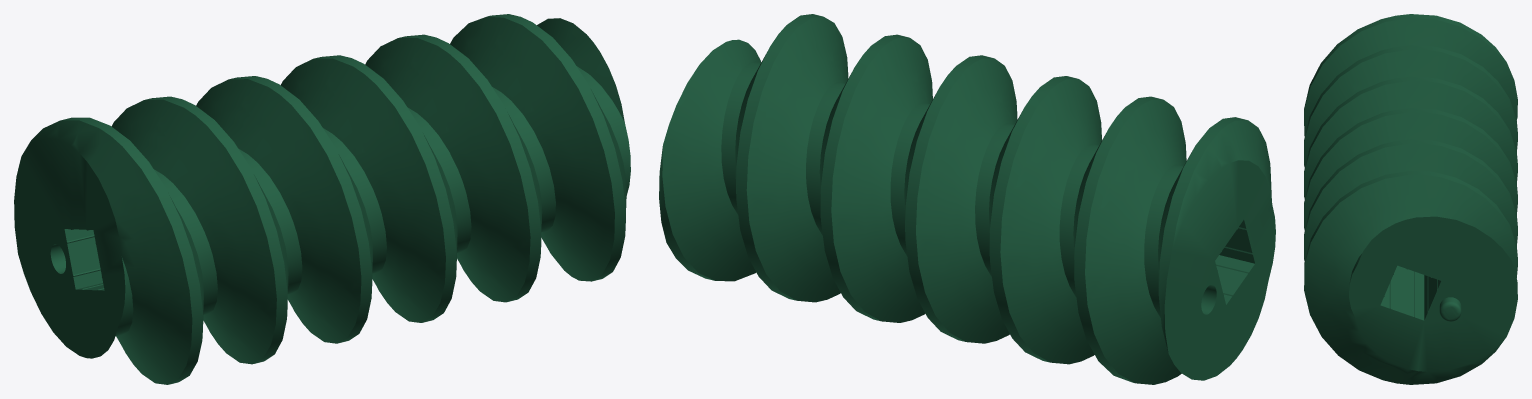
The model's file is lead-screw.glb.
3 views of the same model, side by side, from view 1: azimuth 30°, elevation 25°; view 2: azimuth 150°, elevation 25°; view 3: azimuth 270°, elevation 25° (orthographic). The views are drawn at different scales.
Visible parts, largest first — view 1: 276-2045-032 Rev2; view 2: 276-2045-032 Rev2; view 3: 276-2045-032 Rev2.
Part boxes in pixels (x1,y1,x2,y2): 276-2045-032 Rev2: (14, 14, 630, 384); 276-2045-032 Rev2: (659, 14, 1275, 384); 276-2045-032 Rev2: (1304, 14, 1517, 384).
Bounding box in the file's own units: 0.0314 × 0.0147 × 0.0147.
